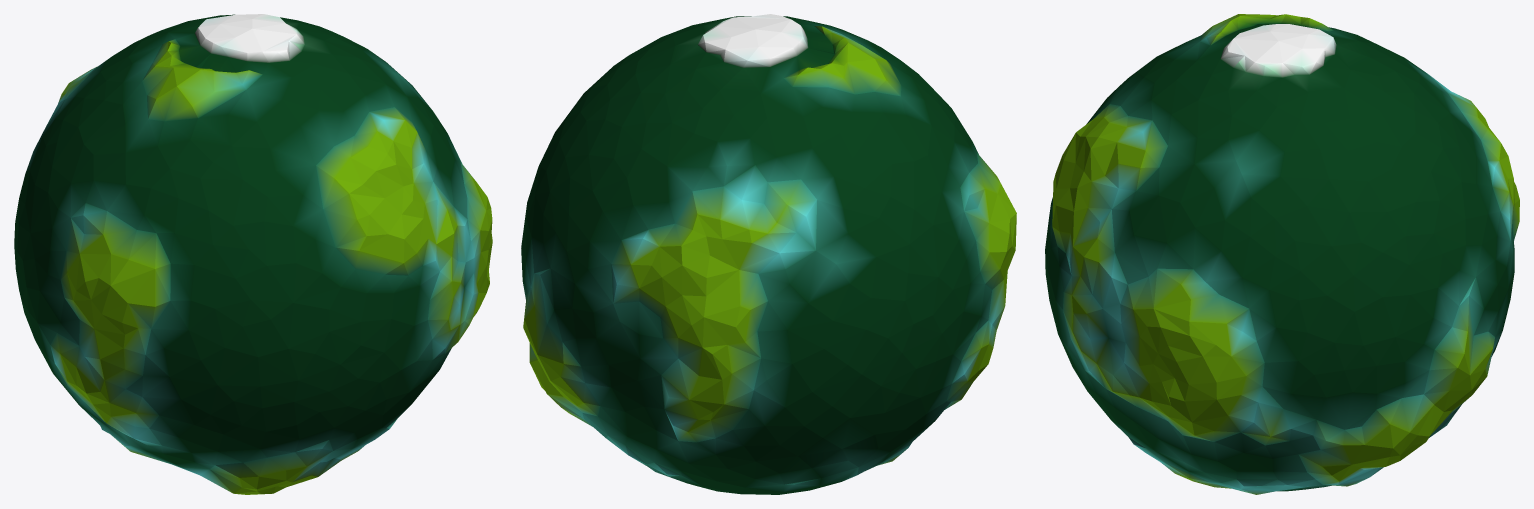
The model's file is planet_12.fbx.
The picture shows the model from 3 angles, left to right: view 1: azimuth 30°, elevation 25°; view 2: azimuth 150°, elevation 25°; view 3: azimuth 270°, elevation 25°; orthographic projection. The views are drawn at different scales.
Parts seen in each view (by area): view 1: file1; view 2: file1; view 3: file1.
Part boxes in pixels (x1,y1,x2,y2): file1: (14, 14, 492, 494); file1: (521, 14, 1016, 494); file1: (1045, 14, 1519, 494).
Bounding box in the file's own units: 2.06 × 2.08 × 2.02.
